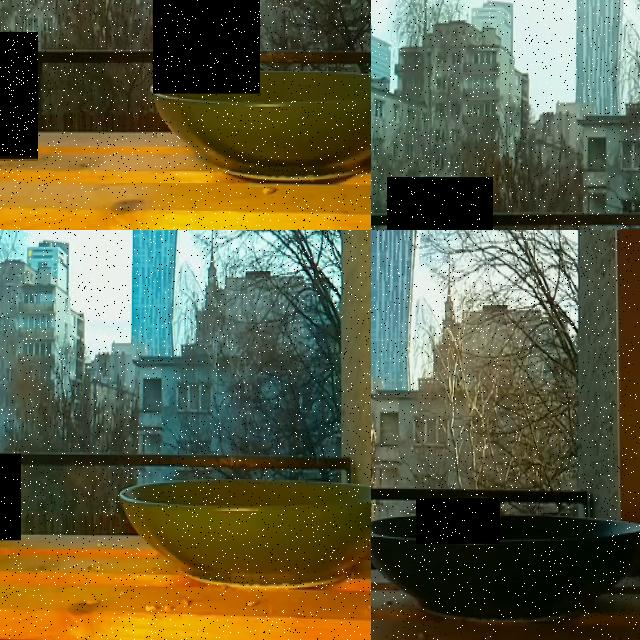Bogatka: (387, 177, 493, 230), (0, 32, 38, 160)
Modraszka: (416, 498, 500, 544), (0, 453, 21, 540)
Wrobel: (153, 0, 260, 93)
